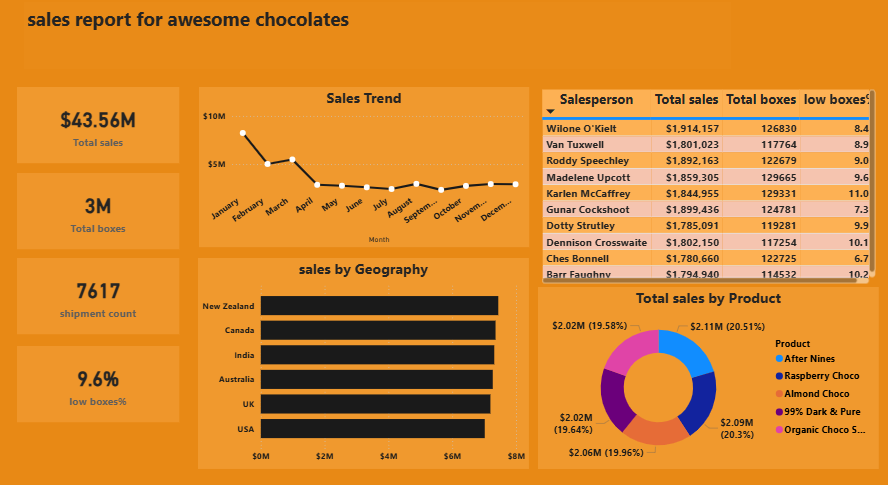

The page's visual inventory and layout, read from the dashboard file:
{"tool":"powerbi","page":{"name":"Page 1","canvas":[1280,720],"ordinal":0},"visuals":[{"type":"card","fields":{"Values":["measures (2).Total sales"]},"box":[40.6,133.6,230,108.2],"z":0},{"type":"card","fields":{"Values":["measures (2).low boxes%"]},"box":[40.6,500.5,230,108.2],"z":1000},{"type":"card","fields":{"Values":["measures (2).shipment count"]},"box":[40.6,375.4,230,108.2],"z":2000},{"type":"card","fields":{"Values":["measures (2).Total boxes"]},"box":[40.6,255.3,230,108.2],"z":3000},{"type":"clusteredBarChart","title":"sales by Geography","fields":{"Category":["geo.Geo"],"Y":["measures (2).Total sales"]},"box":[297.6,375.6,469.1,299.1],"z":4000},{"type":"lineChart","title":"Sales Trend","fields":{"Y":["measures (2).Total sales"],"Category":["sales.SaleDate.Variation.Date Hierarchy.Year","sales.SaleDate.Variation.Date Hierarchy.Month"]},"box":[299.1,133.2,467.7,226.8],"z":5000},{"type":"tableEx","fields":{"Values":["people.Salesperson","measures (2).Total sales","measures (2).Total boxes","measures (2).low boxes%"]},"box":[779.5,131.8,483.3,284.9],"z":6000},{"type":"textbox","box":[51,12.8,1002,95],"z":7000},{"type":"donutChart","fields":{"Category":["products.Product"],"Y":["measures (2).Total sales"]},"box":[779.5,416.7,483.3,258],"z":8000}]}

Visuals, with their boxes in screenshot pixels (x1, y1, x2, y2), scaled from the page's 1280x720 canvas onto the 888x485 screenshot:
card - measures (2).Total sales: pyautogui.locateOnScreen(28, 90, 188, 163)
card - measures (2).low boxes%: pyautogui.locateOnScreen(28, 337, 188, 410)
card - measures (2).shipment count: pyautogui.locateOnScreen(28, 253, 188, 326)
card - measures (2).Total boxes: pyautogui.locateOnScreen(28, 172, 188, 245)
"sales by Geography" clusteredBarChart: pyautogui.locateOnScreen(206, 253, 532, 454)
"Sales Trend" lineChart: pyautogui.locateOnScreen(208, 90, 532, 243)
tableEx - people.Salesperson x measures (2).Total sales: pyautogui.locateOnScreen(541, 89, 876, 281)
textbox: pyautogui.locateOnScreen(35, 9, 731, 73)
donutChart - products.Product x measures (2).Total sales: pyautogui.locateOnScreen(541, 281, 876, 454)
